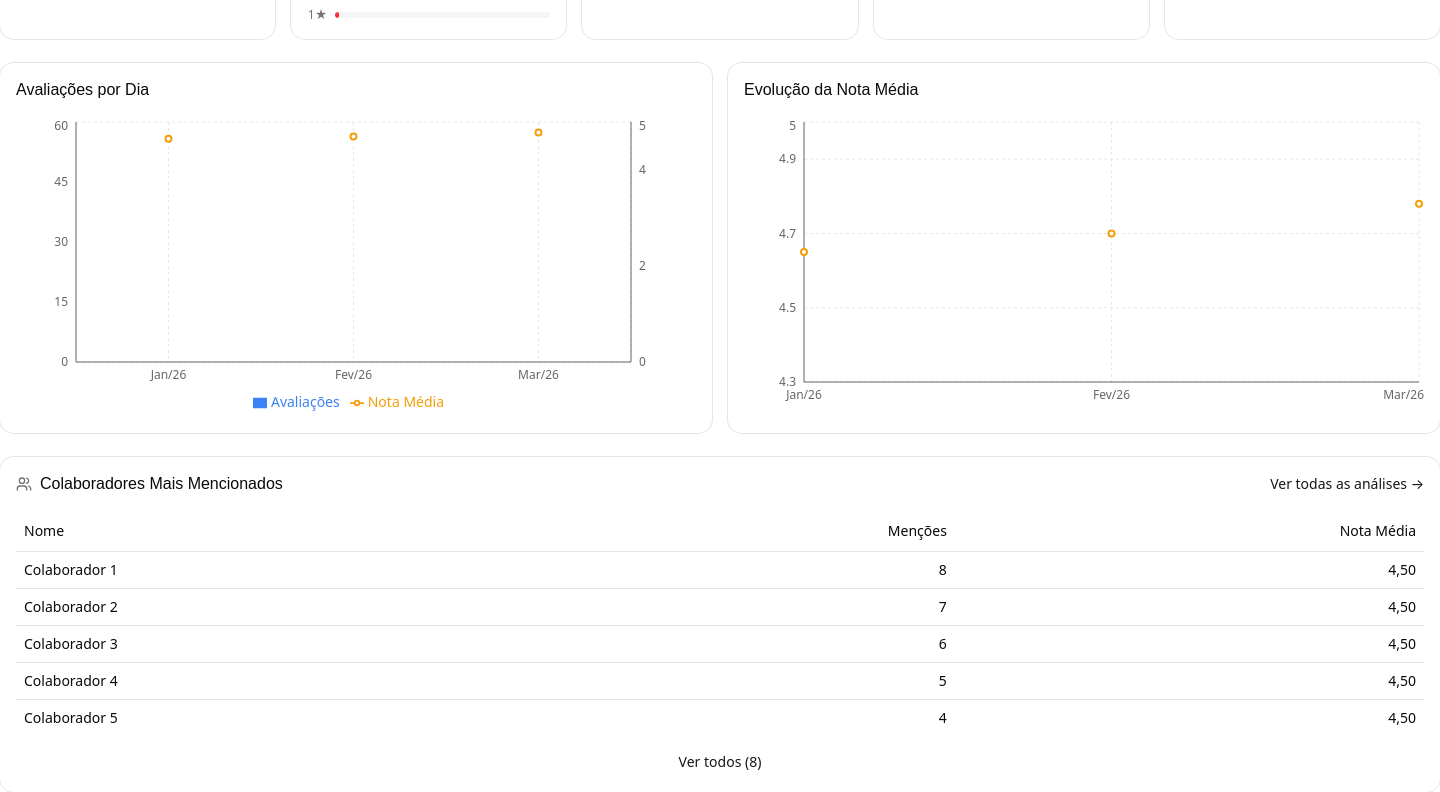
it: DashboardPage › collaborators table expand/collapse › expands to show all rows when "Ver todos" is clicked
(page scrolled)
Click the button "Ver todos (8)": (720, 762) left=671, top=748, right=769, bottom=776
(page scrolled)
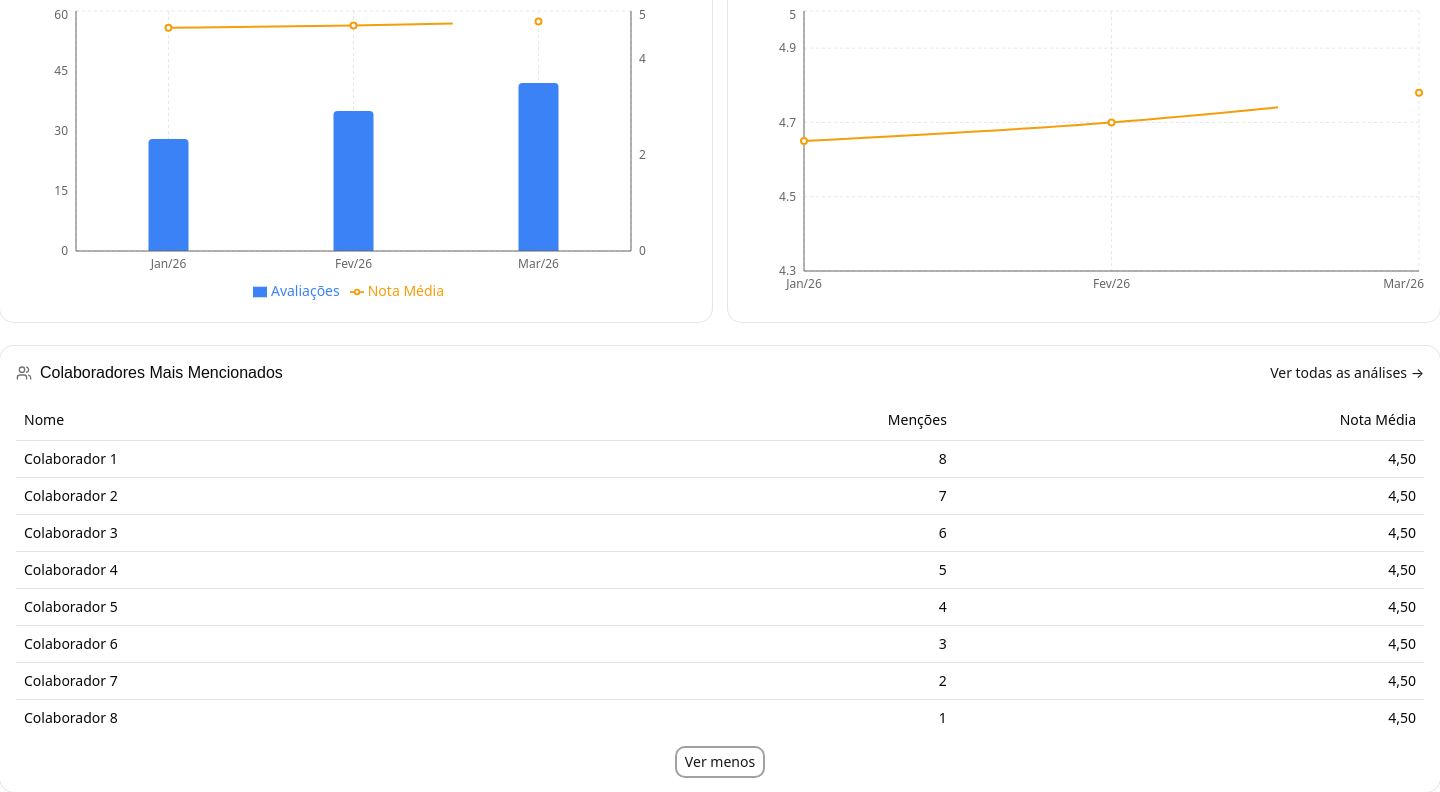
Check: the link "Colaborador 6" is shown, box left=24, top=634, right=118, bottom=652
Check: the link "Colaborador 8" is shown, box left=24, top=708, right=118, bottom=726
Check: the button "Ver menos" is shown, box left=677, top=748, right=763, bottom=776
